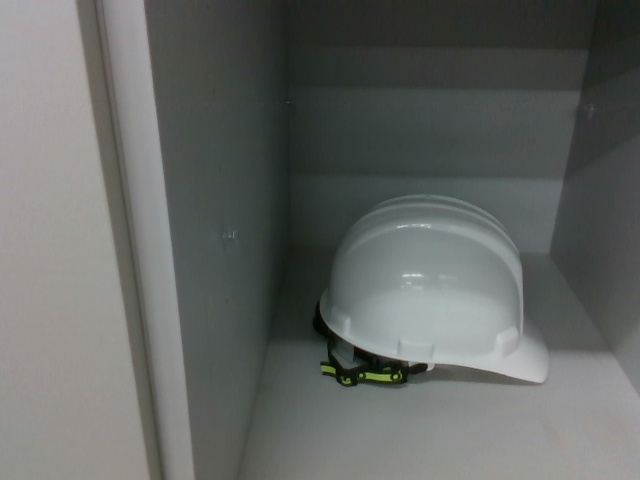helmet: (305, 191, 553, 393)
